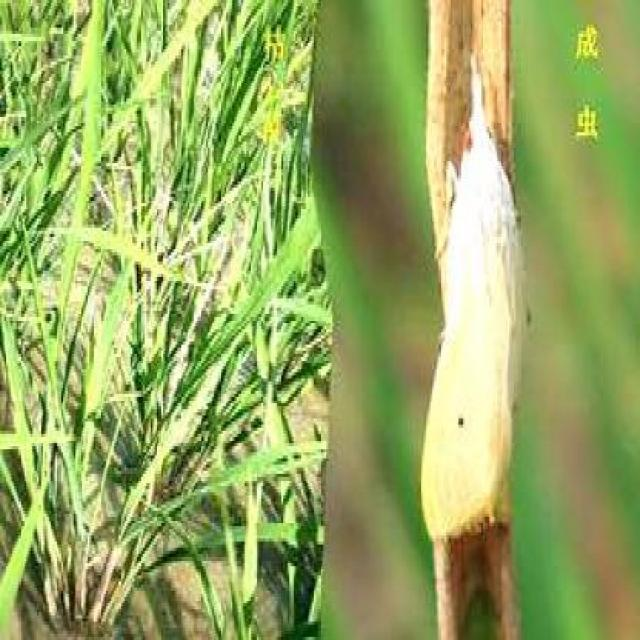stem-borer: (417, 52, 529, 548)
